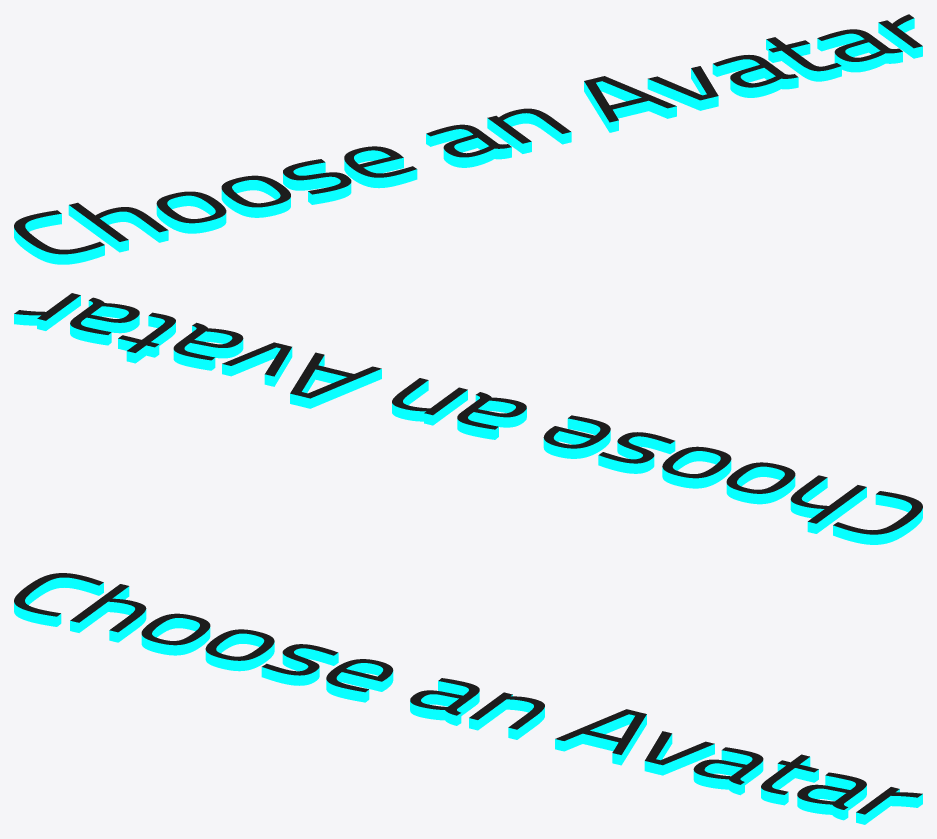
Rendered from choose-avatar-sign.fbx.
3 renders of one model, top to bottom at view 1: azimuth 30°, elevation 25°; view 2: azimuth 150°, elevation 25°; view 3: azimuth 330°, elevation 25°, orthographic.
Parts seen in each view (by area): view 1: Text.001; view 2: Text.001; view 3: Text.001.
Part boxes in pixels (left/top/right/bottom): Text.001: left=14, top=14, right=922, bottom=264; Text.001: left=14, top=293, right=922, bottom=544; Text.001: left=14, top=573, right=922, bottom=824.
Bounding box in the file's own units: 238 × 2.65 × 23.81.
